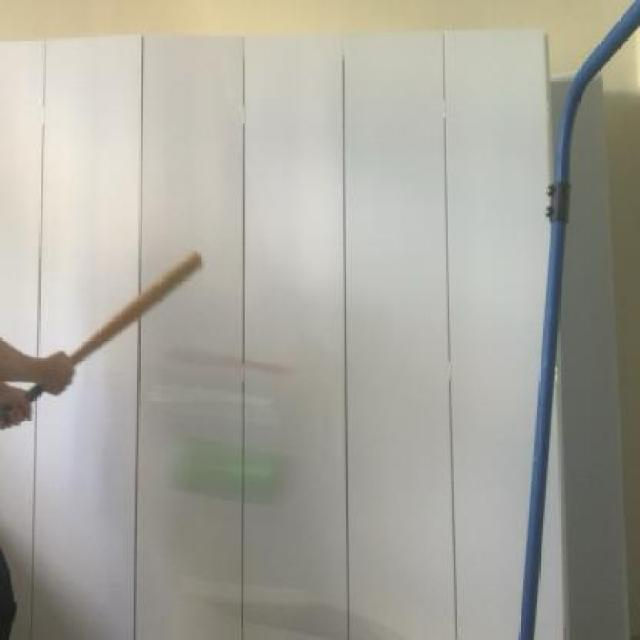baseball: (160, 422, 298, 522)
